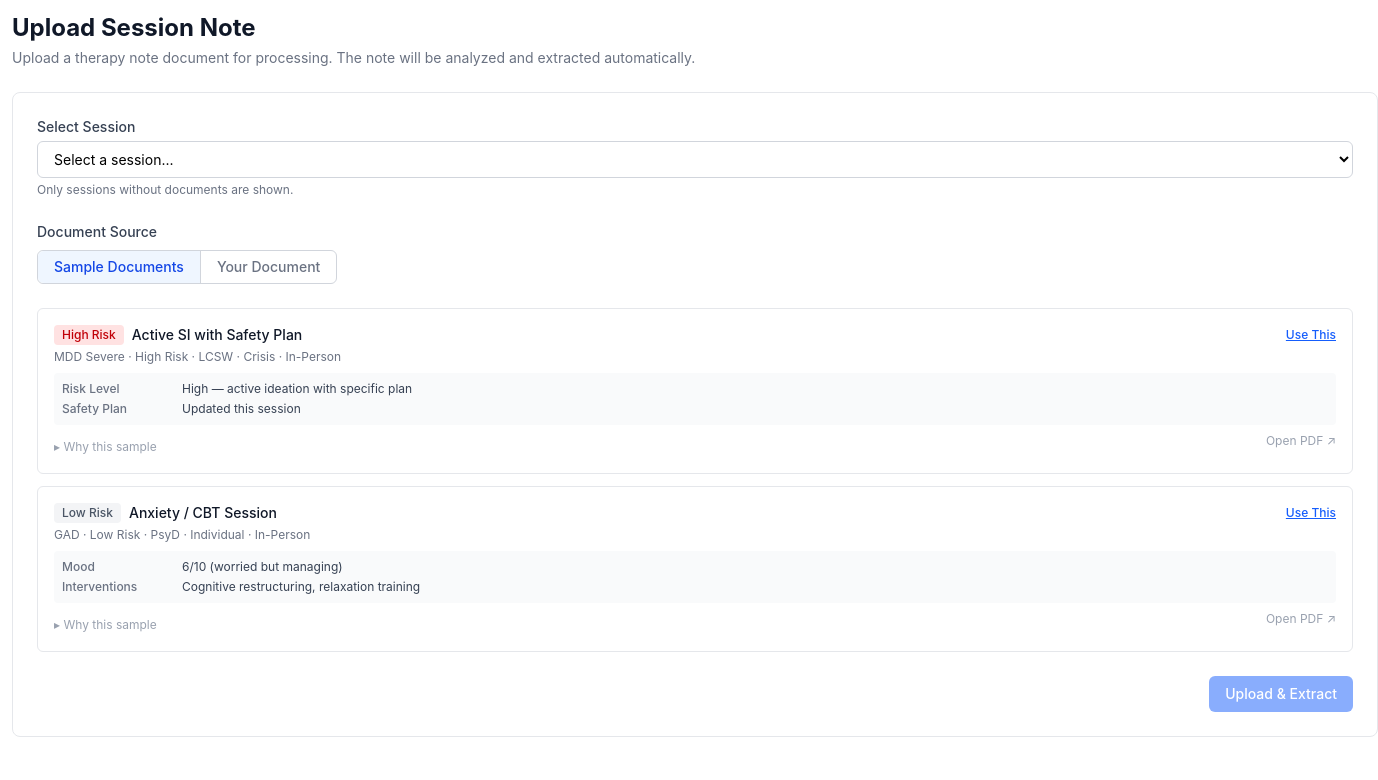
Test: Upload page › shows file input when Your Document tab selected
Expected: the dropdown labelled "Select Session" is shown, [37,141,1353,178]
Step 1. Click the tab "Your Document" → (269, 267), box [201,251,336,283]
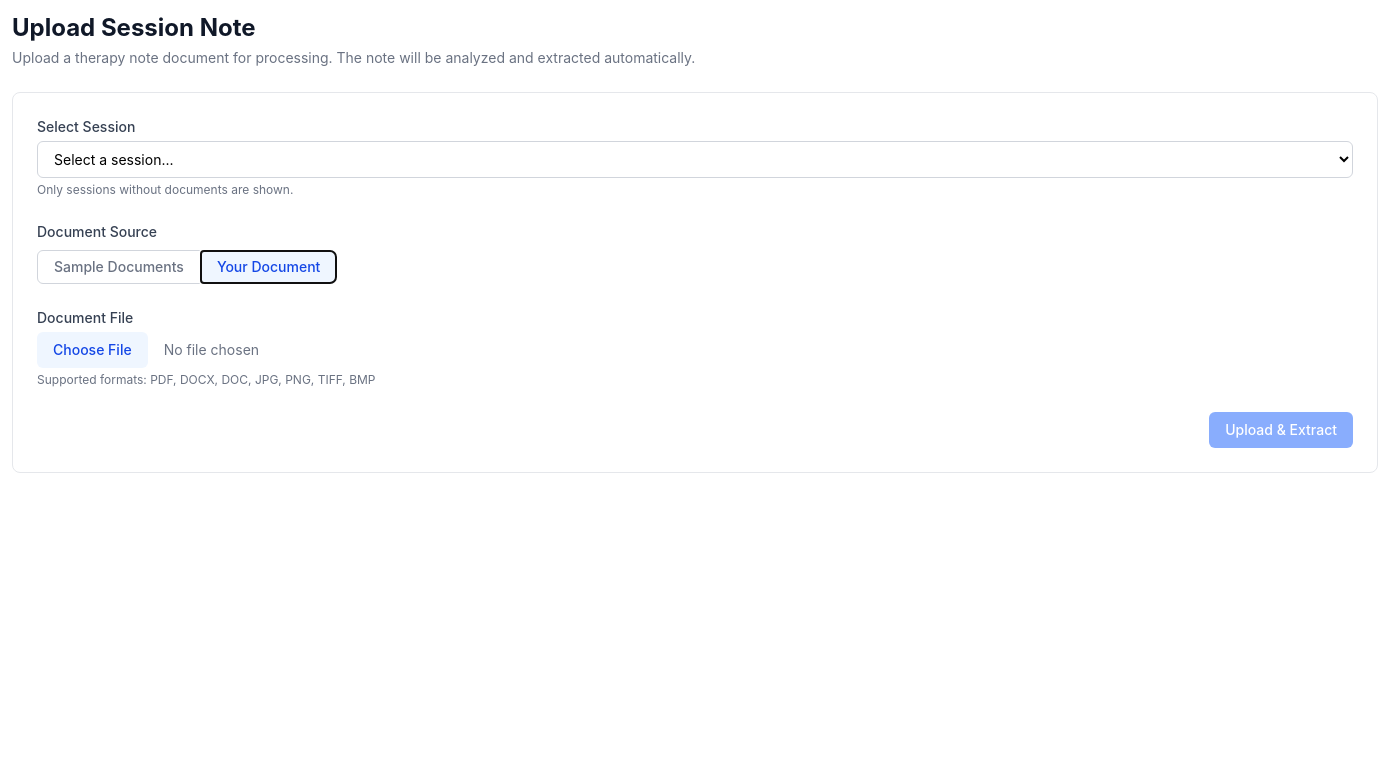
Expected: the file field labelled "Document File" is shown, [37,332,1353,368]
